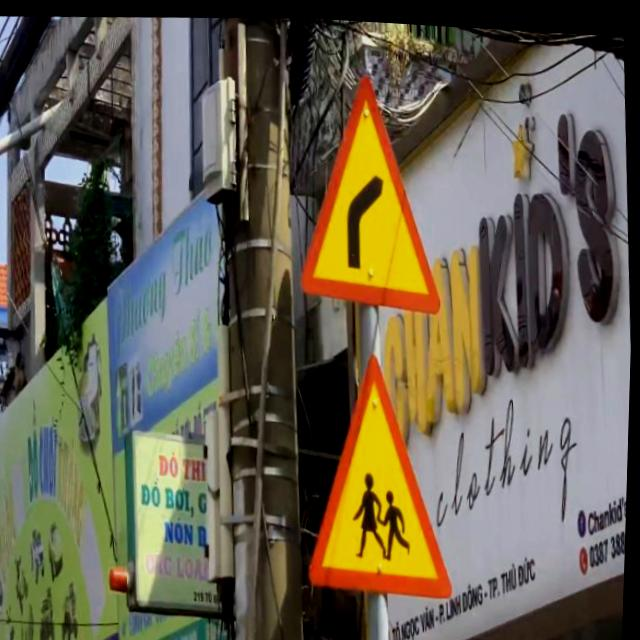Tre em: (297, 332, 465, 606)
cho ngoat nguy hiem vong ben phai: (285, 60, 451, 323)
